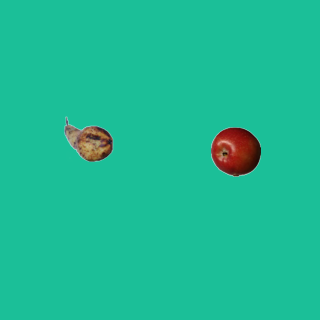Apple Braeburn: (210, 126, 260, 176)
Pear Abate: (63, 114, 113, 164)
